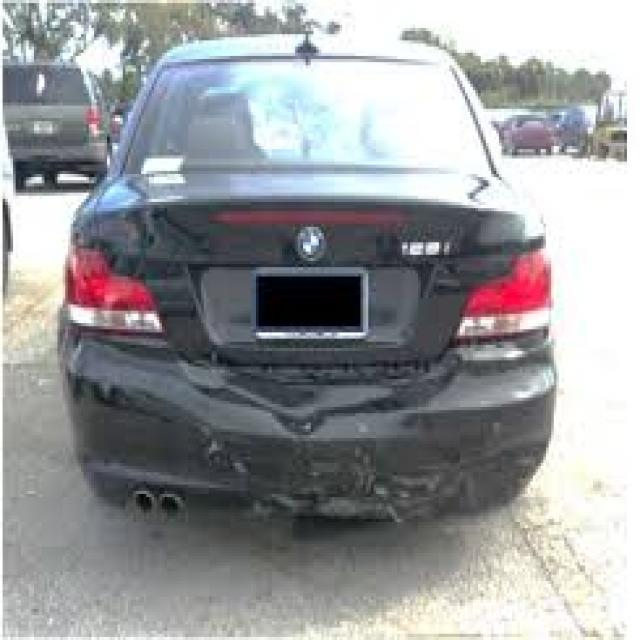minor: (44, 174, 550, 550)
